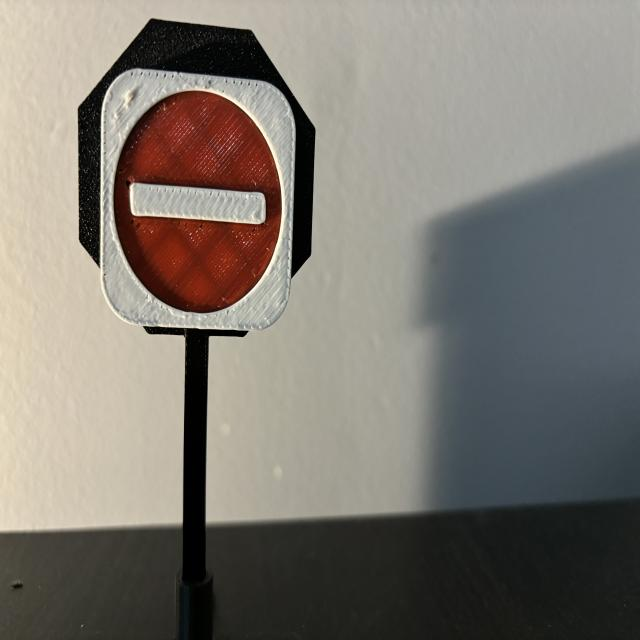sign_noentry: (101, 69, 297, 330)
